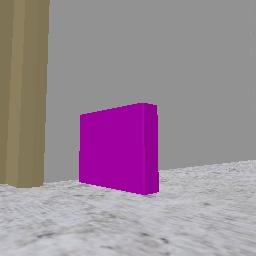mov: (79, 103, 158, 194)
